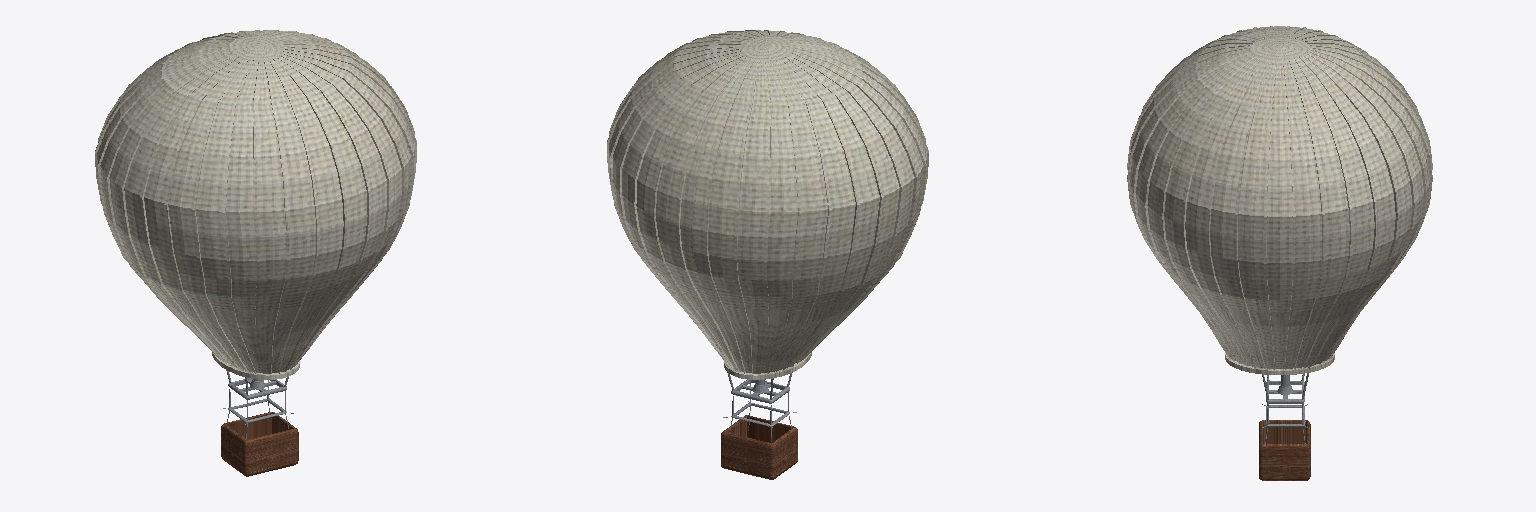
The picture shows the model from 3 angles: view 1: azimuth 30°, elevation 25°; view 2: azimuth 150°, elevation 25°; view 3: azimuth 270°, elevation 25°; orthographic projection.
Visible parts, largest first — view 1: Box002__0.009, Box002__0.008, Box002__0.007; view 2: Box002__0.009, Box002__0.008, Box002__0.007; view 3: Box002__0.009, Box002__0.008, Box002__0.007.
Part boxes in pixels (x1,y1,x2,y2): Box002__0.009: (95, 30, 416, 379); Box002__0.008: (221, 412, 298, 476); Box002__0.007: (223, 370, 293, 438); Box002__0.009: (607, 30, 928, 379); Box002__0.008: (721, 415, 797, 479); Box002__0.007: (723, 372, 796, 441); Box002__0.009: (1127, 26, 1432, 374); Box002__0.008: (1259, 420, 1310, 480); Box002__0.007: (1261, 361, 1311, 443).
Size of the model in its own units: 0.9953 by 1.4 by 0.9268.
3 materials, 3 textured.